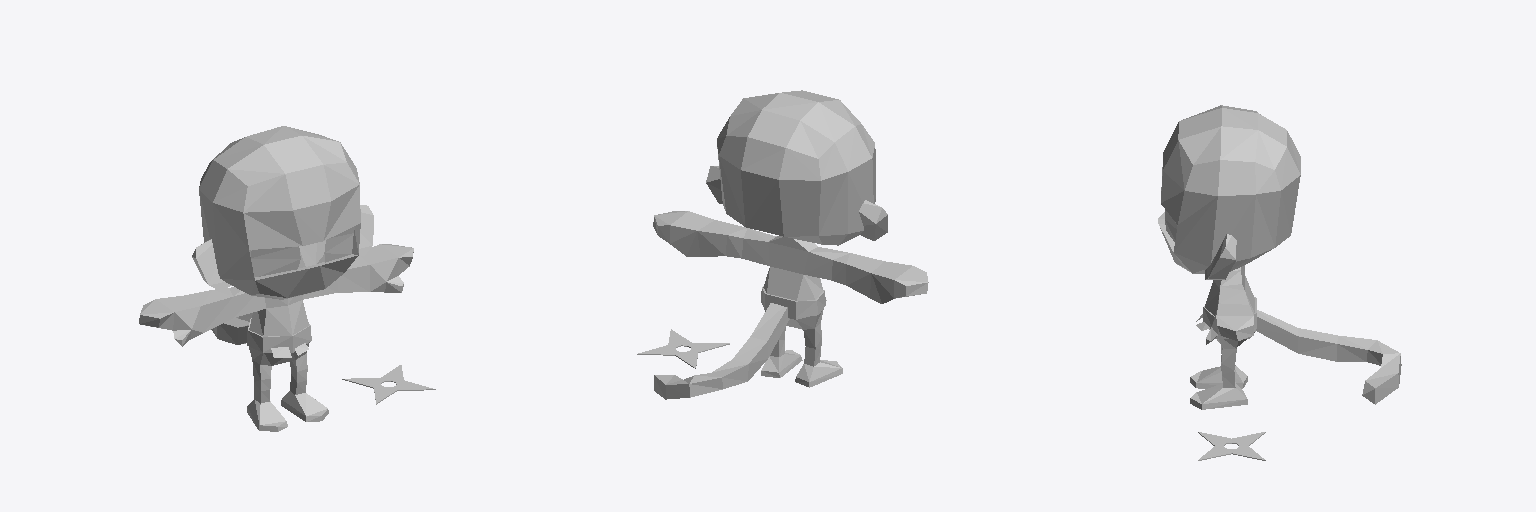
Rendered from ninjamonkey.obj.
3 renders of one model, left to right at view 1: azimuth 30°, elevation 25°; view 2: azimuth 150°, elevation 25°; view 3: azimuth 270°, elevation 25°, orthographic.
Visible parts, largest first — view 1: FlatSkin_NinjaMonkey_NinjaMonkey; view 2: FlatSkin_NinjaMonkey_NinjaMonkey; view 3: FlatSkin_NinjaMonkey_NinjaMonkey.
Boxes of the visible parts, box(x1,y1,x2,y2) form: FlatSkin_NinjaMonkey_NinjaMonkey: box(139, 126, 435, 431); FlatSkin_NinjaMonkey_NinjaMonkey: box(637, 90, 928, 399); FlatSkin_NinjaMonkey_NinjaMonkey: box(1158, 105, 1401, 460).
Bounding box in the file's own units: 23.34 × 22.21 × 17.76.